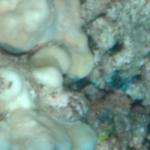alive: (13, 10, 147, 148)
